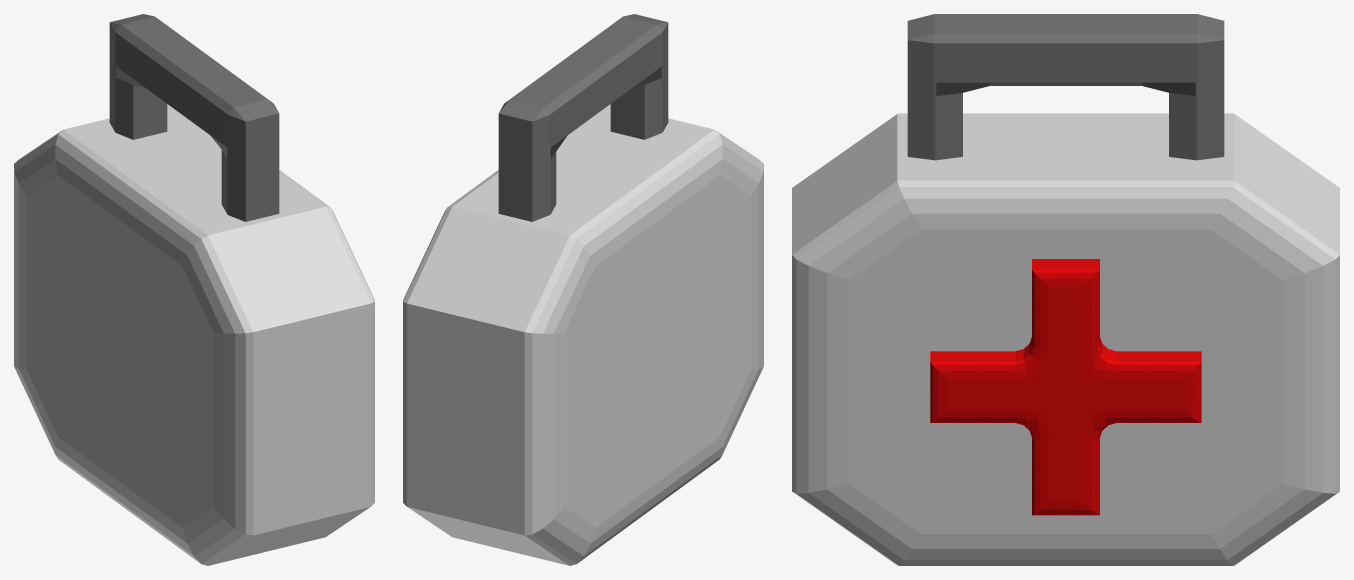
Rendered from HealthKit.fbx.
The picture shows the model from 3 angles, left to right: view 1: azimuth 30°, elevation 25°; view 2: azimuth 150°, elevation 25°; view 3: azimuth 270°, elevation 25°; orthographic projection. The views are drawn at different scales.
Visible parts, largest first — view 1: Cube, Cube.001; view 2: Cube, Cube.001; view 3: Cube, Cube.002, Cube.001.
Part boxes in pixels (box(x1,y1,x2,y2)): Cube: box(14, 104, 374, 565); Cube.001: box(109, 14, 279, 221); Cube: box(403, 104, 763, 565); Cube.001: box(498, 14, 668, 221); Cube: box(792, 113, 1339, 565); Cube.002: box(930, 259, 1201, 515); Cube.001: box(907, 14, 1224, 160).
Size of the model in its own units: 114 by 278 by 271.
